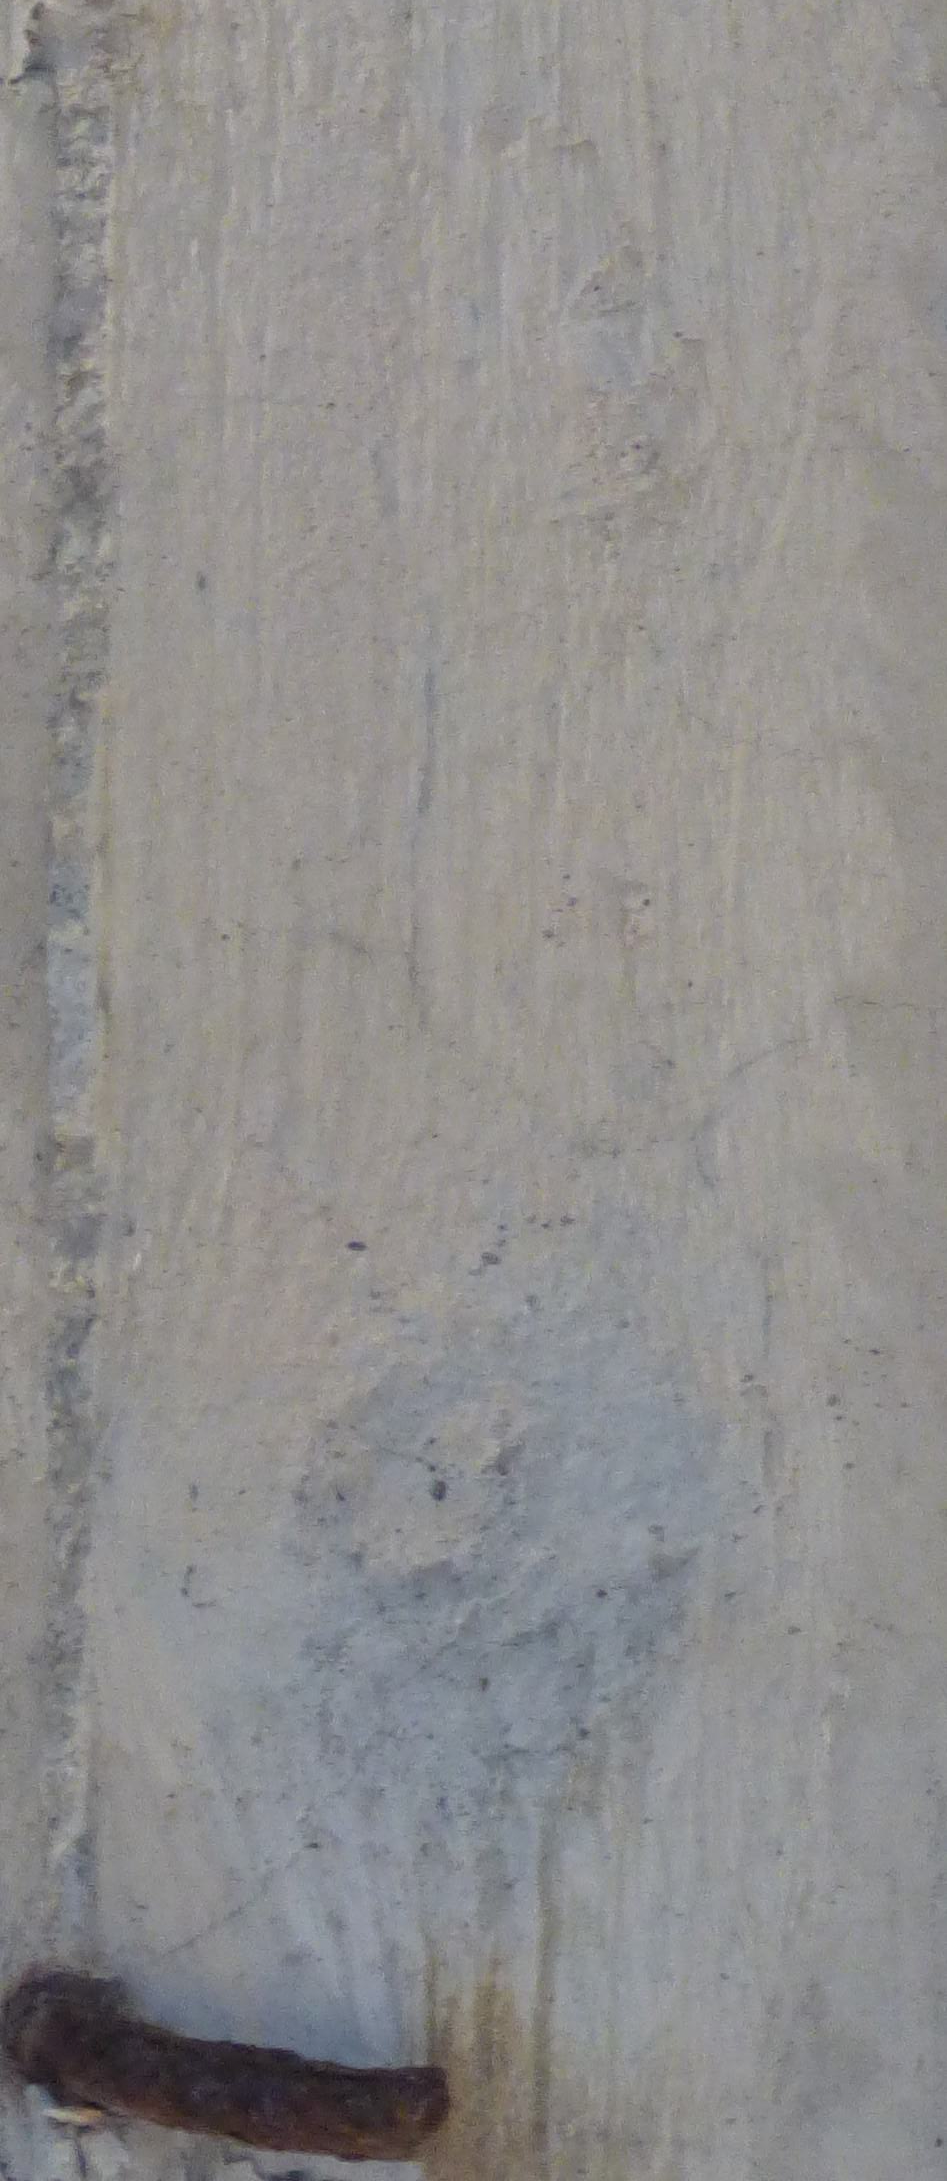Exposed reinforcement: (18, 2006, 451, 2162)
